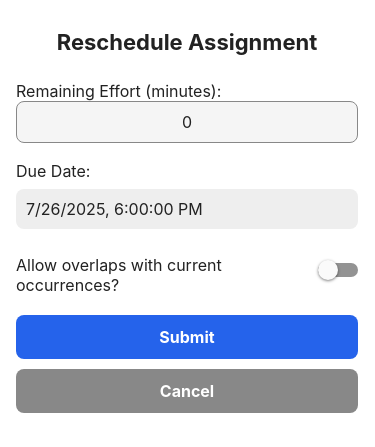
Test case: RescheduleScreen Component › Assignment Reschedule › opens due date picker when due date button is pressed
This screenshot has width=375, height=447.
Find the date button - it should show the current date
Click the text "7/26/2025, 6:00:00 PM": (114, 209) [26,199,203,219]
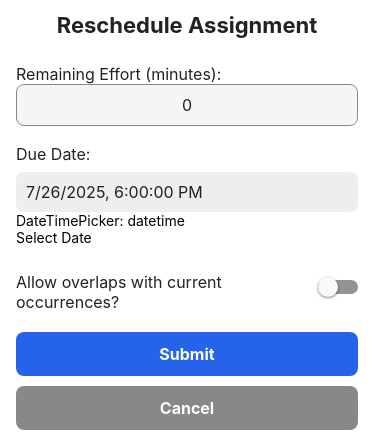
Check: the element with test id "date-time-picker" is shown, box [16,212,185,246]
